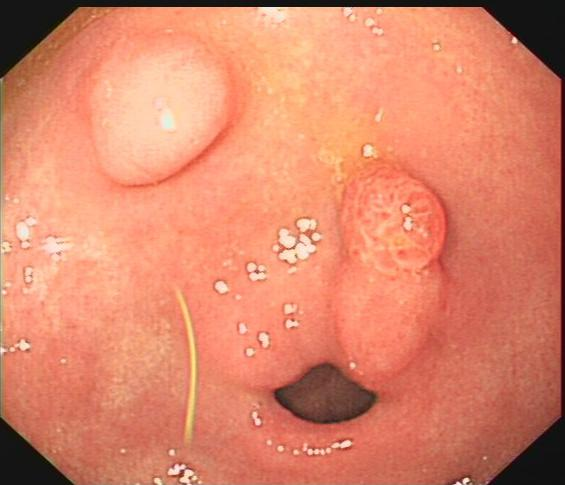Polyp: (84, 45, 242, 186), (334, 155, 453, 271)
